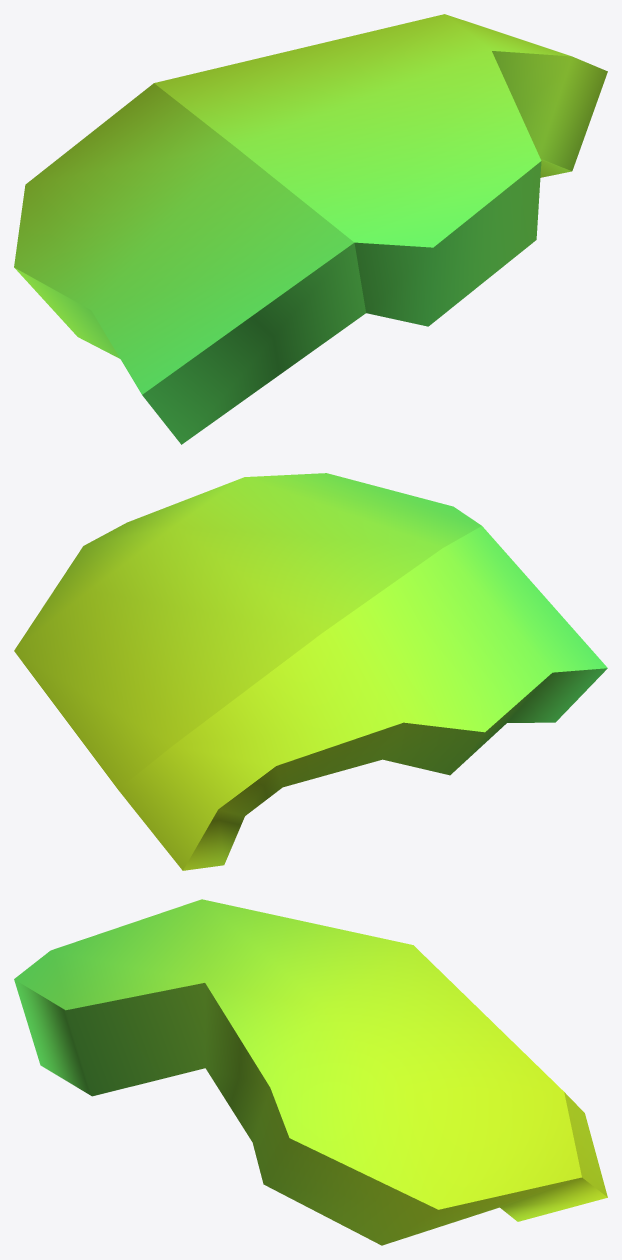
The model's file is Egg_Particle_Green_002.fbx.
3 renders of one model, top to bottom at view 1: azimuth 30°, elevation 25°; view 2: azimuth 150°, elevation 25°; view 3: azimuth 270°, elevation 25°, orthographic. The views are drawn at different scales.
Visible parts, largest first — view 1: Egg_Particle_Green_002; view 2: Egg_Particle_Green_002; view 3: Egg_Particle_Green_002.
Boxes of the visible parts, <box> form: Egg_Particle_Green_002: <box>14,14,607,444</box>; Egg_Particle_Green_002: <box>14,473,607,870</box>; Egg_Particle_Green_002: <box>14,899,607,1245</box>.
Bounding box in the file's own units: 1.17 × 0.6551 × 1.16.
